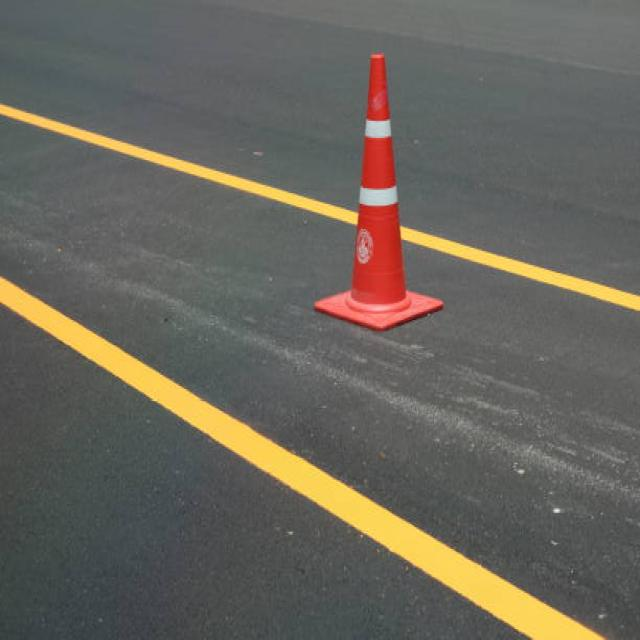Traffic Cone: (299, 28, 482, 376)
